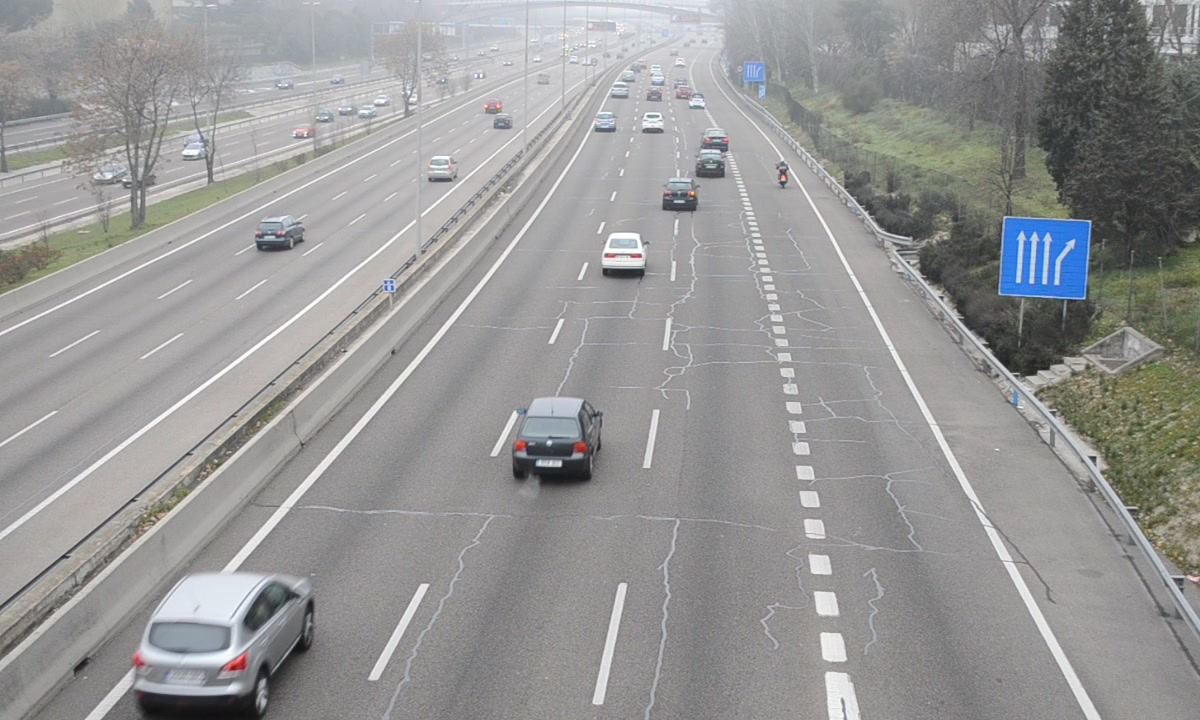car: (134, 572, 315, 711), (510, 397, 603, 479), (602, 232, 647, 273), (663, 177, 697, 211), (695, 149, 726, 179), (701, 126, 731, 151), (639, 110, 668, 131), (594, 108, 618, 130)
motorcycle: (774, 159, 791, 191)
